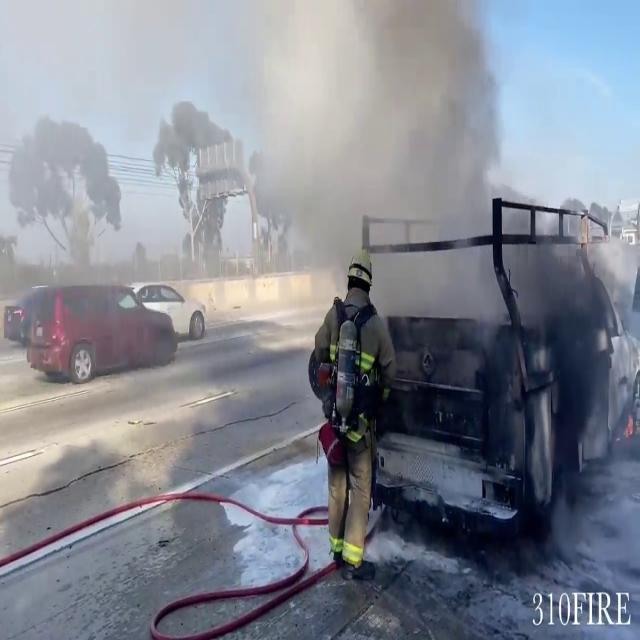Smoke: (214, 0, 536, 279), (2, 0, 235, 158)
